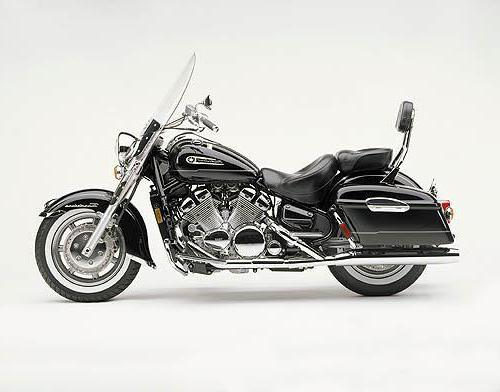motorcycle: (21, 53, 467, 322)
